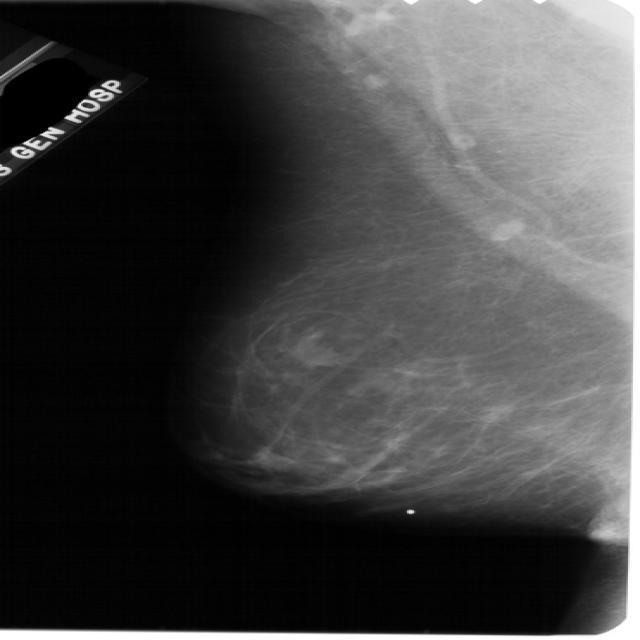tumour: (292, 335, 344, 365)
